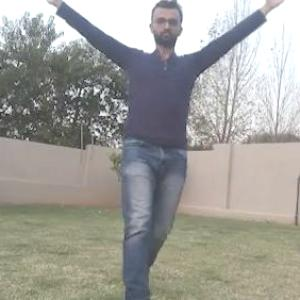takeoff: (59, 0, 270, 299)
